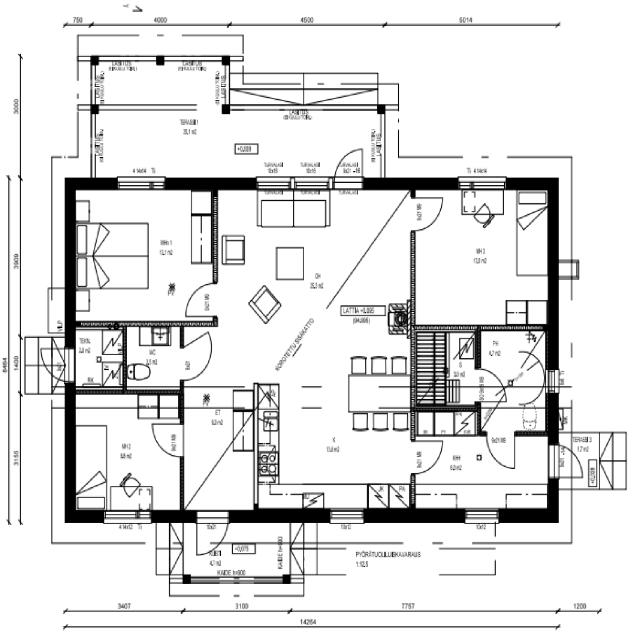door: (178, 328, 214, 383), (192, 511, 230, 557), (410, 190, 444, 232), (150, 419, 186, 458), (182, 281, 218, 318), (549, 444, 583, 481), (333, 145, 366, 183), (412, 436, 444, 475), (485, 432, 517, 470), (477, 366, 503, 389)
window: (251, 176, 336, 194), (113, 172, 169, 194), (99, 506, 151, 524), (458, 176, 511, 192), (325, 505, 368, 524), (461, 505, 503, 523), (254, 175, 294, 192), (376, 108, 387, 148), (401, 537, 435, 546)
zone: (219, 187, 347, 350), (412, 187, 552, 327), (72, 184, 212, 322), (258, 402, 414, 506), (72, 397, 182, 506), (414, 428, 554, 512), (180, 401, 254, 512), (333, 304, 412, 382), (478, 328, 545, 406), (125, 324, 182, 389), (74, 326, 124, 390), (440, 548, 496, 574)
